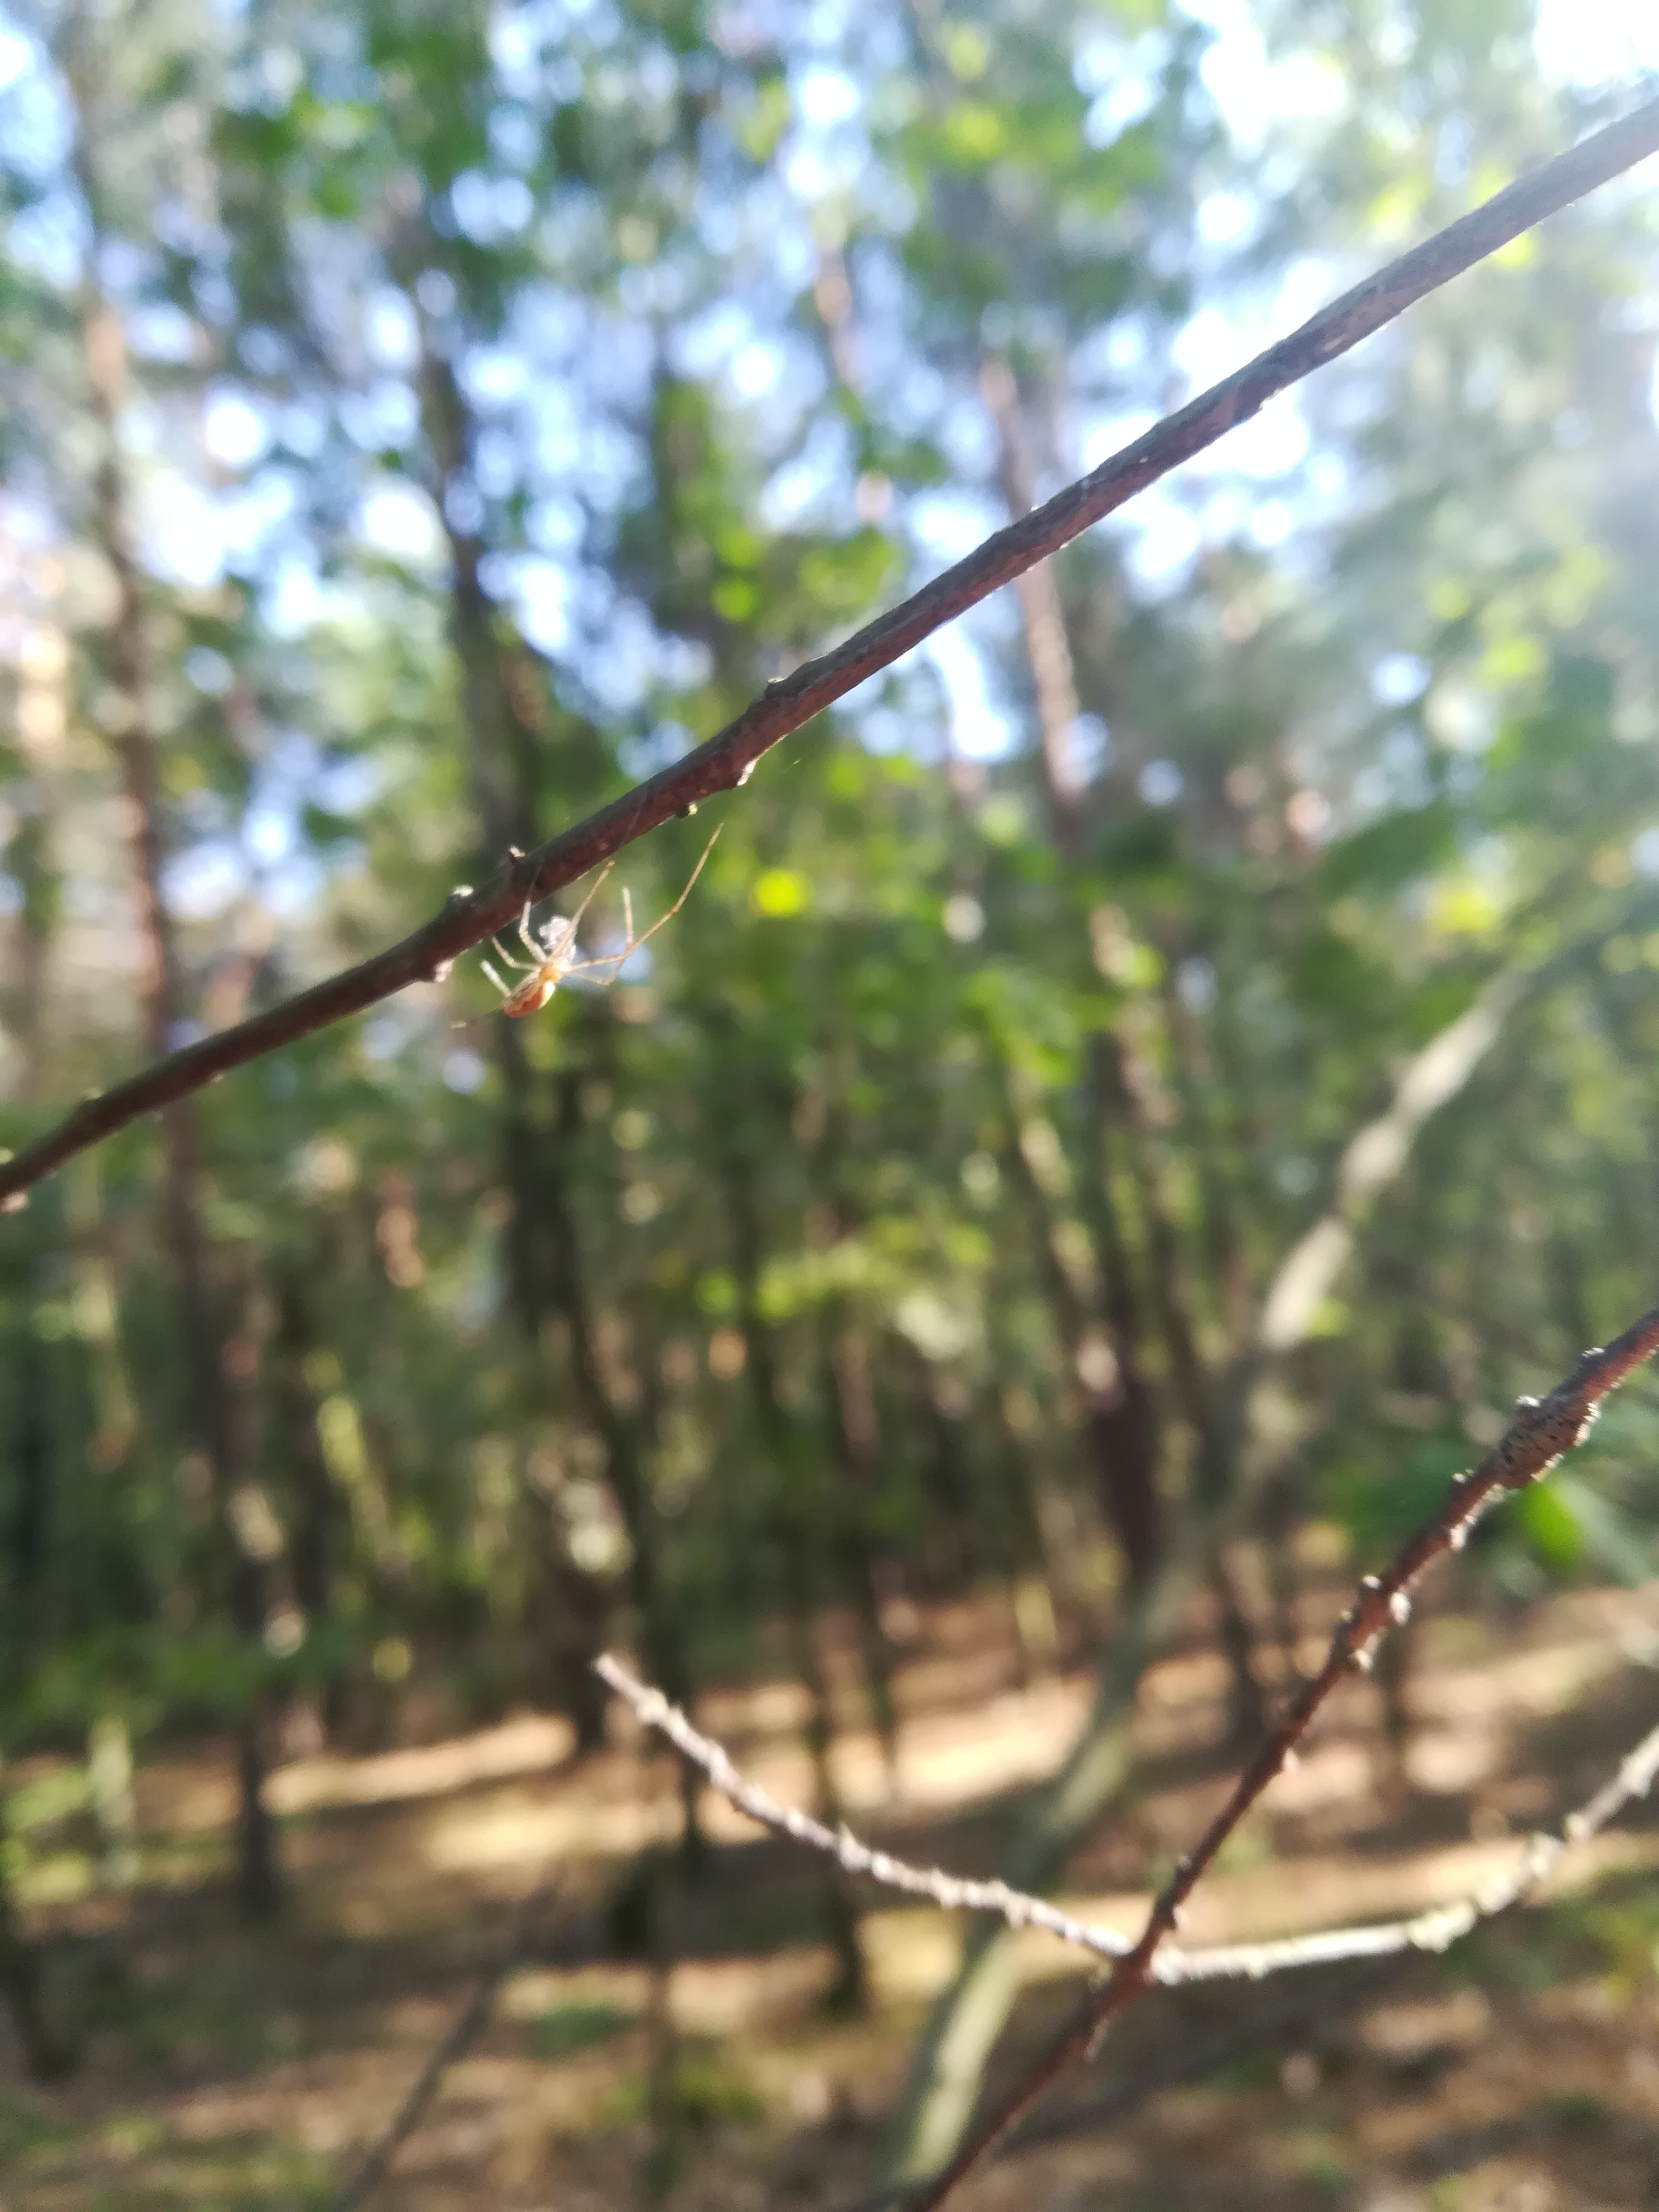spider: (415, 745, 762, 1080)
